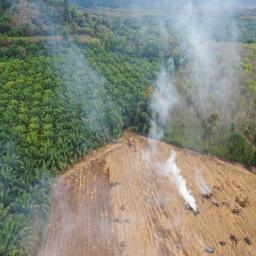Low smoke: (150, 19, 239, 214)
